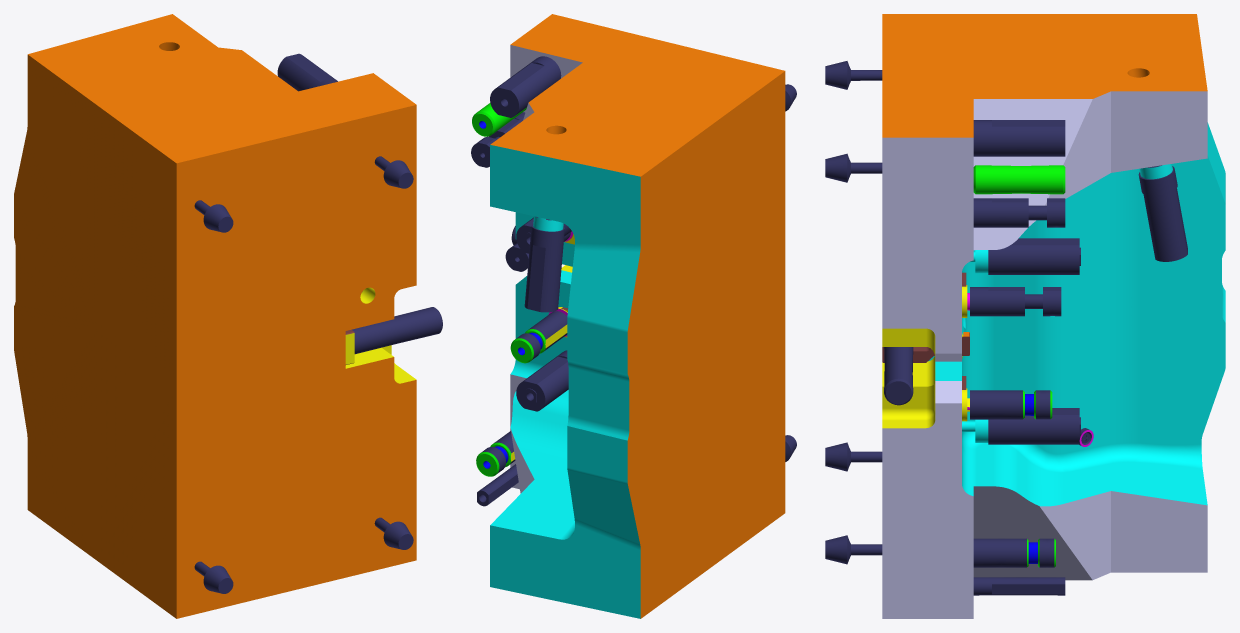
File: HA145993_58996-V2040_K00_260513_KEN.obj
3 views of the same model, side by side, from view 1: azimuth 30°, elevation 25°; view 2: azimuth 150°, elevation 25°; view 3: azimuth 270°, elevation 25° (orthographic). The views are drawn at different scales.
Visible parts, largest first — view 1: Shell_000, Shell_024, Shell_060, Shell_031, Shell_032, Shell_029, Shell_030; view 2: Shell_000, Shell_047, Shell_060, Shell_045, Shell_038, Shell_059, Shell_062, Shell_039, Shell_057, Shell_051, Shell_033; view 3: Shell_000, Shell_060, Shell_043, Shell_047, Shell_045, Shell_062, Shell_059, Shell_052, Shell_056, Shell_034, Shell_038, Shell_024 (+8 smaller).
Part boxes in pixels (left/top/right/bottom): Shell_000: left=14, top=14, right=416, bottom=618; Shell_024: left=352, top=307, right=442, bottom=354; Shell_060: left=277, top=53, right=337, bottom=91; Shell_031: left=374, top=156, right=413, bottom=188; Shell_032: left=194, top=200, right=233, bottom=232; Shell_029: left=374, top=517, right=413, bottom=549; Shell_030: left=194, top=561, right=233, bottom=593; Shell_000: left=490, top=14, right=785, bottom=618; Shell_047: left=524, top=224, right=564, bottom=312; Shell_060: left=490, top=56, right=561, bottom=117; Shell_045: left=516, top=350, right=568, bottom=411; Shell_038: left=525, top=311, right=567, bottom=353; Shell_059: left=477, top=464, right=518, bottom=506; Shell_062: left=472, top=103, right=526, bottom=136; Shell_039: left=510, top=332, right=542, bottom=363; Shell_057: left=476, top=446, right=508, bottom=476; Shell_051: left=471, top=136, right=499, bottom=167; Shell_033: left=505, top=243, right=528, bottom=271; Shell_000: left=882, top=14, right=1225, bottom=618; Shell_060: left=973, top=120, right=1065, bottom=156; Shell_043: left=988, top=238, right=1079, bottom=274; Shell_047: left=1138, top=166, right=1187, bottom=261; Shell_045: left=988, top=408, right=1079, bottom=444; Shell_062: left=973, top=165, right=1065, bottom=194; Shell_059: left=973, top=577, right=1065, bottom=595; Shell_052: left=973, top=198, right=1028, bottom=227; Shell_056: left=973, top=538, right=1028, bottom=567; Shell_034: left=970, top=287, right=1024, bottom=316; Shell_038: left=970, top=390, right=1024, bottom=419; Shell_024: left=884, top=347, right=913, bottom=405.
Bounding box in the file's own units: 179 × 290 × 219.
